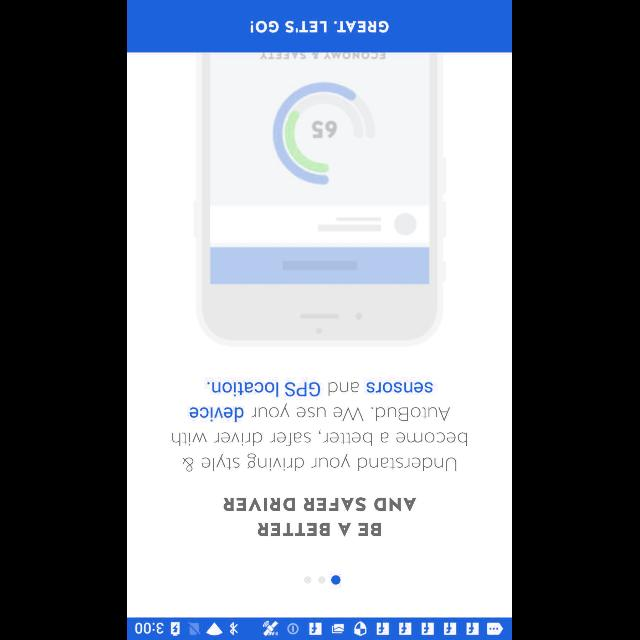image: (195, 53, 448, 347)
pageindicator: (304, 575, 342, 585)
text: (172, 382, 468, 472), (225, 498, 417, 536)
textbutton: (128, 0, 512, 52)
uppertaskbar: (128, 617, 512, 639)
